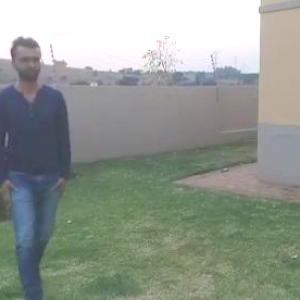follow: (7, 29, 84, 299)
